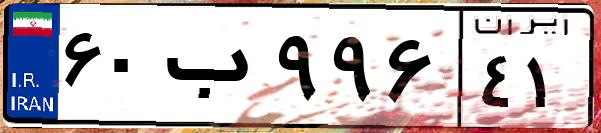0: (110, 28, 158, 98)
1: (525, 38, 570, 115)
4: (475, 38, 525, 113)
6: (385, 28, 445, 110), (57, 26, 110, 100)
9: (270, 28, 330, 110), (330, 28, 385, 110)
ب: (158, 20, 270, 120)
